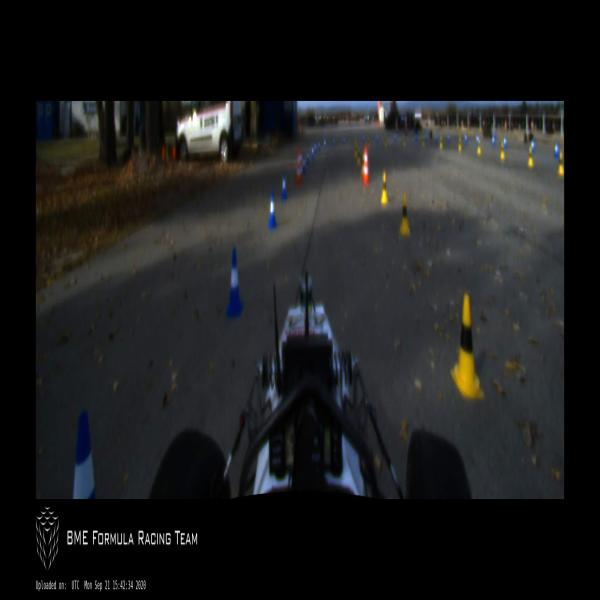blue_cone: (72, 410, 96, 498), (226, 248, 243, 319), (268, 190, 276, 228), (281, 172, 287, 202), (302, 154, 306, 174), (531, 136, 535, 153), (554, 141, 558, 157), (503, 136, 507, 149), (311, 146, 314, 158), (492, 134, 495, 146), (464, 135, 467, 145), (435, 134, 438, 144), (314, 142, 317, 152), (307, 152, 309, 165), (476, 134, 478, 146), (394, 134, 397, 142), (377, 134, 379, 144), (333, 137, 335, 147), (324, 138, 326, 148), (318, 140, 320, 150), (343, 136, 345, 145), (448, 135, 450, 143), (415, 133, 417, 141), (426, 134, 427, 141)
large_orange_cone: (295, 149, 302, 185), (363, 146, 369, 184), (299, 147, 303, 179)
yellow_cone: (450, 293, 484, 401), (400, 192, 410, 236), (381, 171, 388, 203), (558, 151, 564, 176), (528, 146, 534, 168), (500, 141, 505, 160), (477, 140, 482, 156), (361, 152, 364, 176), (458, 137, 462, 153), (357, 147, 360, 167), (439, 136, 443, 149), (354, 143, 357, 158), (367, 137, 370, 148), (384, 136, 387, 147), (403, 136, 406, 147), (422, 136, 425, 147), (354, 139, 356, 152)
